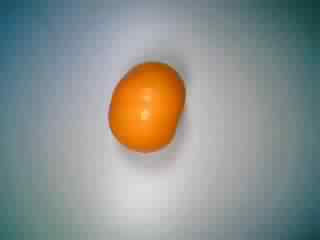orange: (99, 60, 195, 156)
